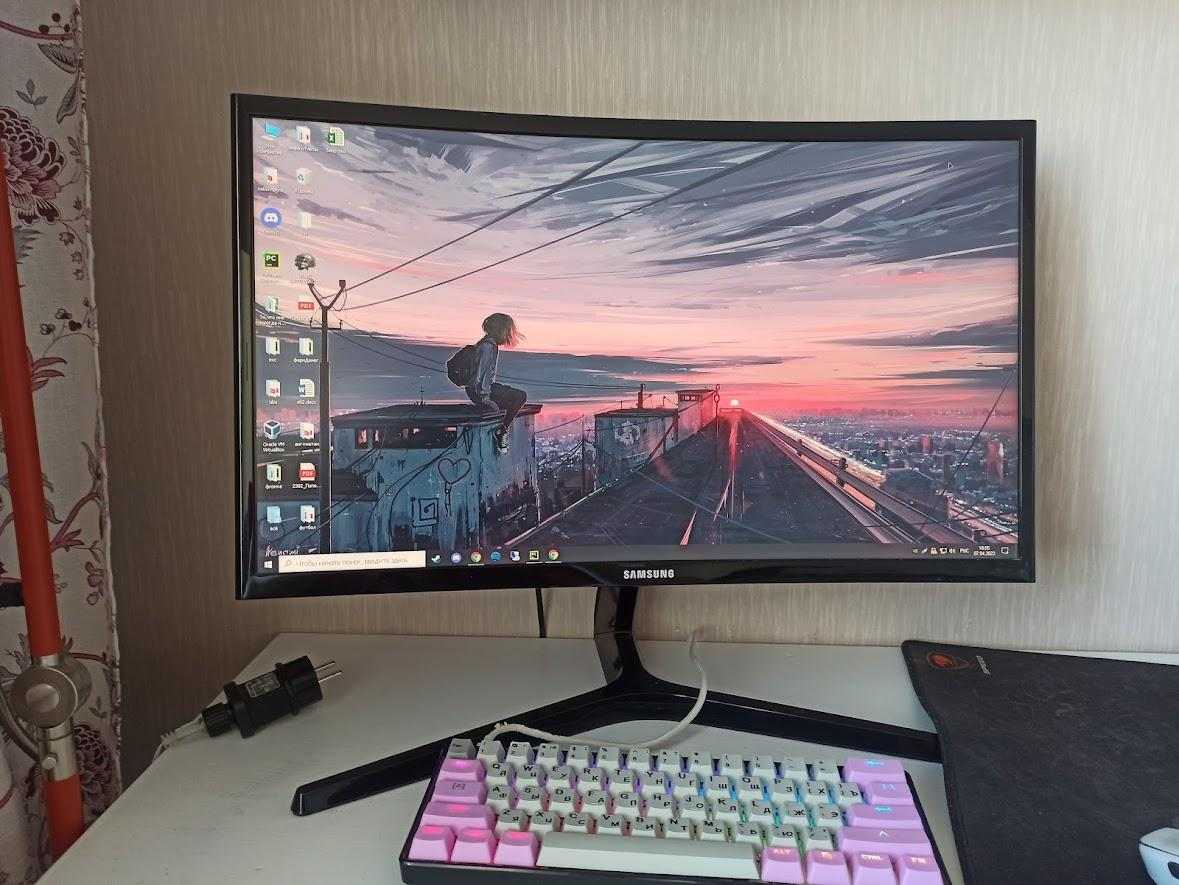monitor: (229, 90, 1043, 614)
